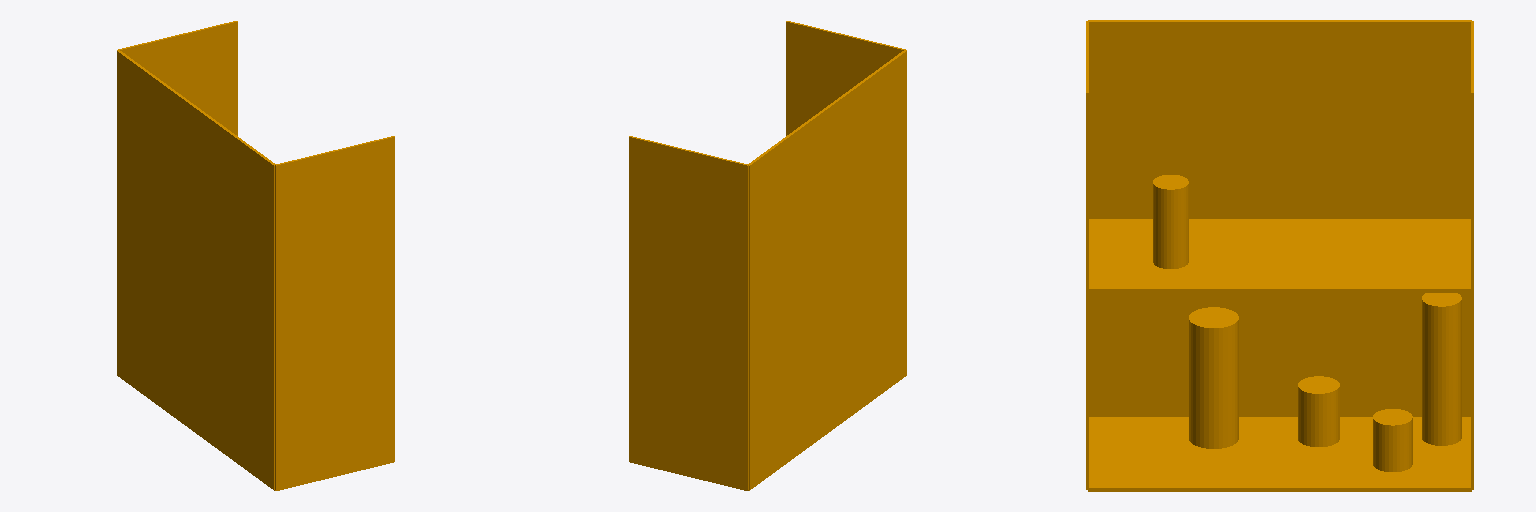
URDF robot description (syn_can_cabinet_30):
<?xml version="1.0" ?>
<robot name="syn_can_cabinet_30">
    <link concave="yes" name="base_link">
        <inertial>
            <origin rpy="0 0 0" xyz="0 0 0"/>
            <mass value="0.0"/>
            <inertia ixx="1e-08" ixy="0" ixz="0" iyy="1e-08" iyz="0" izz="1e-08"/>
        </inertial>
        <visual>
            <origin xyz="0 0 0" rpy="0 0 0" />
            <geometry>
                <mesh filename="syn_can_cabinet_30.obj" scale="1.000000 1.000000 1.000000"/>
            </geometry>         
        </visual>

        <collision concave="yes">
            <origin xyz="0 0 0" rpy="0 0 0"/>
            <geometry>
                <mesh filename="syn_can_cabinet_30.obj" scale="1.000000 1.000000 1.000000"/>
            </geometry>
        </collision>
    </link>
</robot>
    

--- Facts derived from the render (not from the file) ---
3 views of the same robot in one strip: view 1: azimuth 30°, elevation 25°; view 2: azimuth 150°, elevation 25°; view 3: azimuth 270°, elevation 25° (orthographic).
Robot: syn_can_cabinet_30 — 1 links, 0 joints (none); root link base_link; default pose: every joint at zero.
Links seen in each view (by area): view 1: base_link; view 2: base_link; view 3: base_link.
Boxes of the visible links, box(x1,y1,x2,y2) form: base_link: box(117, 21, 394, 490); base_link: box(629, 21, 906, 490); base_link: box(1086, 20, 1473, 491).
Size in the robot's own frame: 0.2192 by 0.4983 by 0.5651 metres.
Meshes: 1 distinct files referenced, 1 mesh visuals loaded (1 OBJ).
